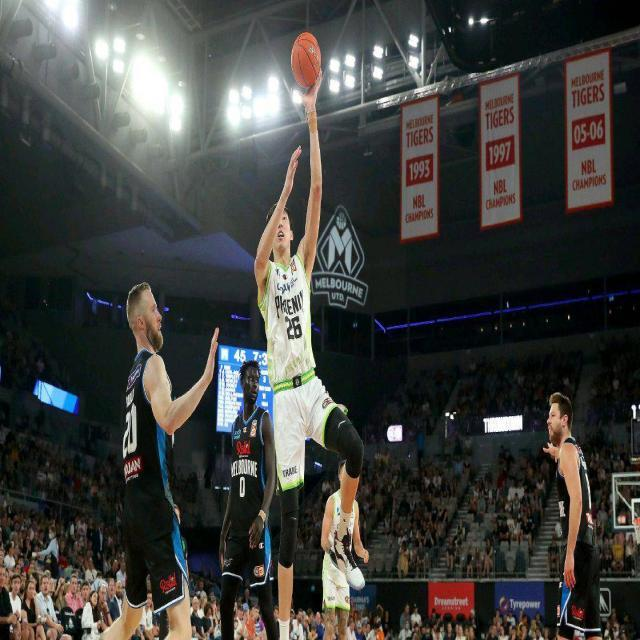rim: (290, 35, 322, 86)
